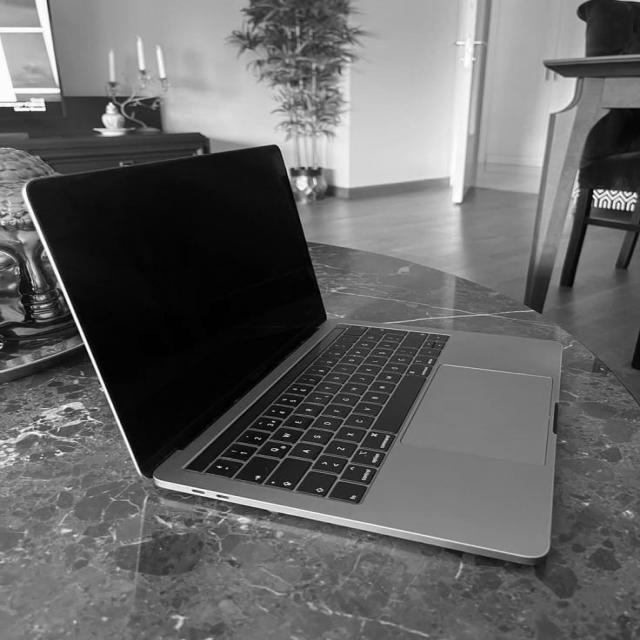laptop: (22, 128, 605, 604)
